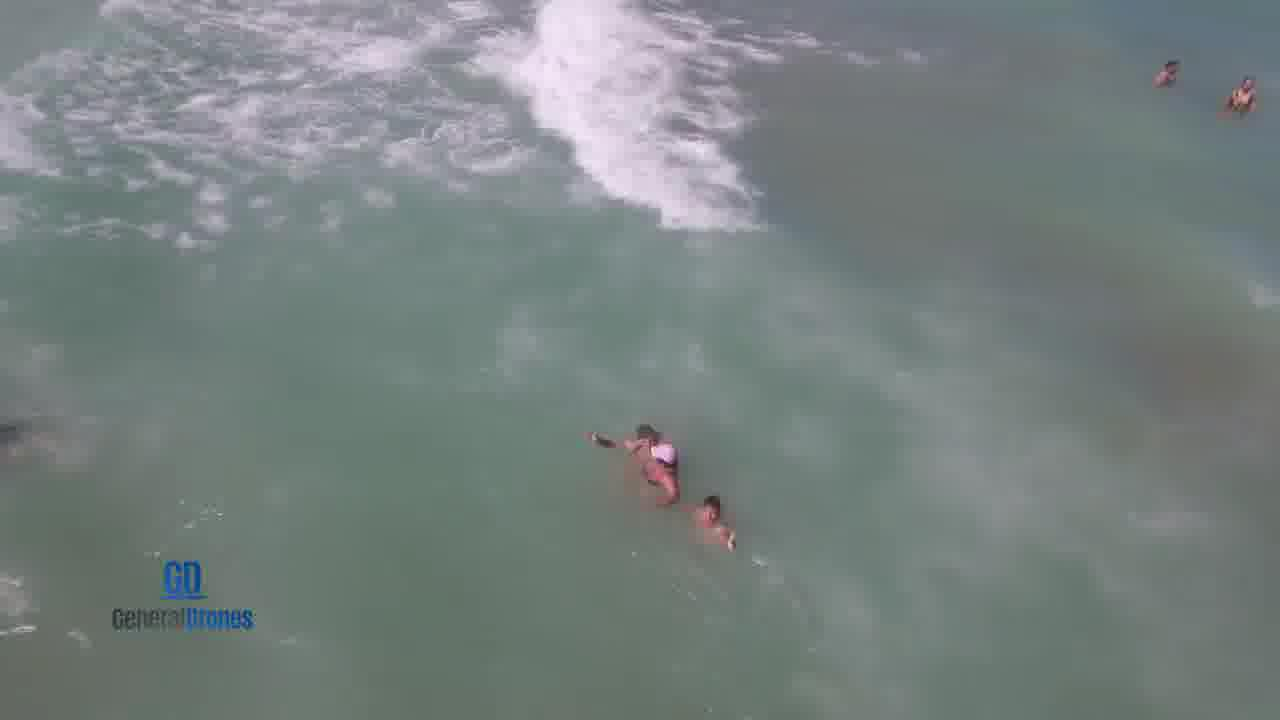swimmer: (639, 443, 697, 510), (574, 410, 668, 449), (686, 491, 742, 554), (1142, 46, 1189, 92), (1218, 71, 1262, 114)
